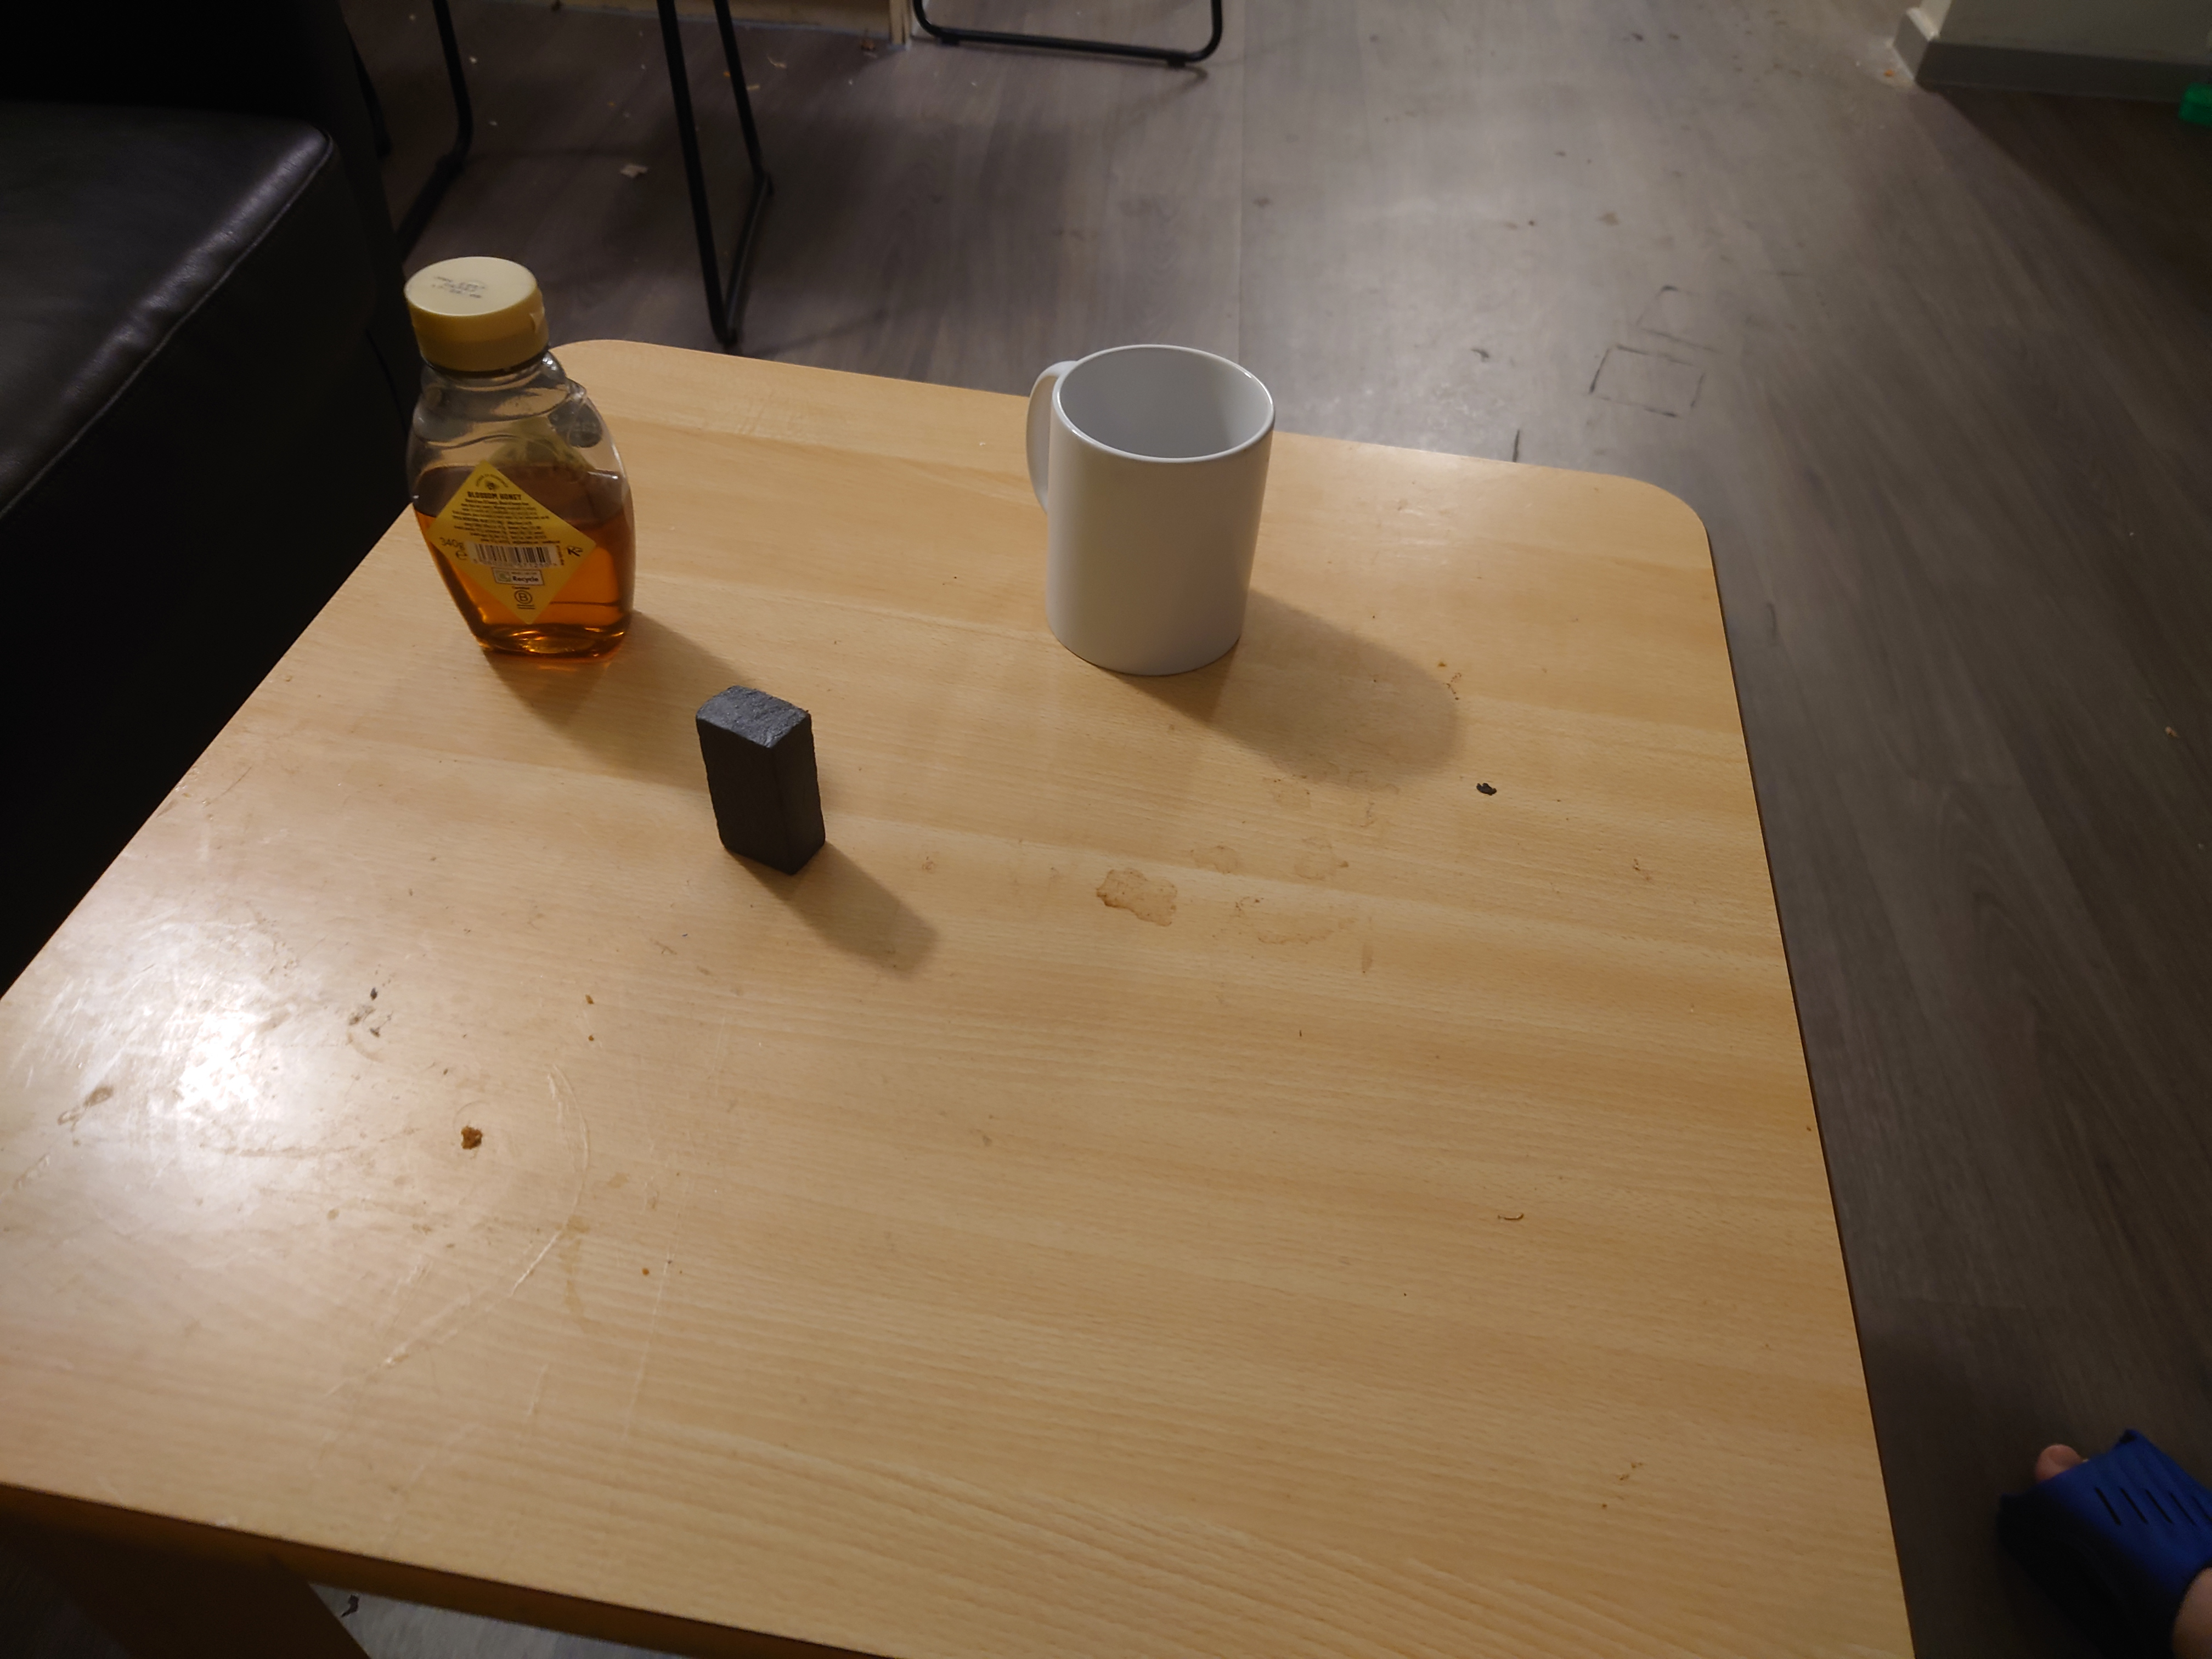cup: (1023, 345, 1278, 678)
target: (689, 684, 828, 883)
